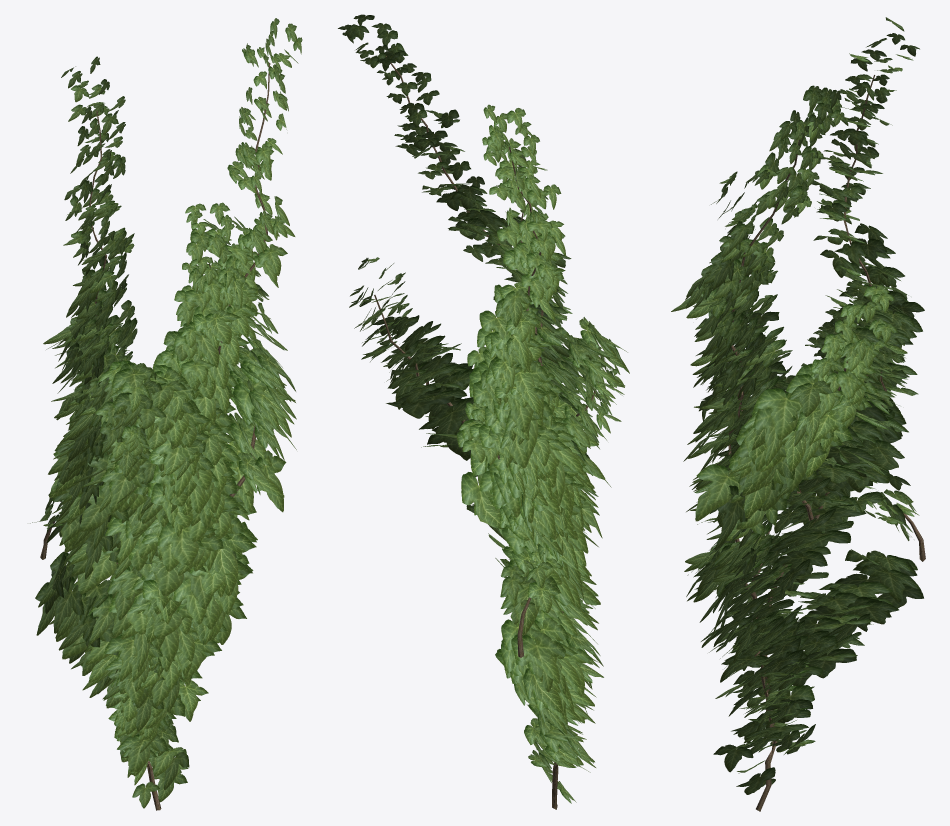
The model's file is SM_Ivy_01a.fbx.
The picture shows the model from 3 angles, left to right: view 1: azimuth 30°, elevation 25°; view 2: azimuth 150°, elevation 25°; view 3: azimuth 270°, elevation 25°; orthographic projection. The views are drawn at different scales.
Parts seen in each view (by area): view 1: SM_Ivy_01a_LOD0; view 2: SM_Ivy_01a_LOD0; view 3: SM_Ivy_01a_LOD0.
Boxes of the visible parts, x1,y1,x2,y2 form: SM_Ivy_01a_LOD0: [30, 18, 302, 810]; SM_Ivy_01a_LOD0: [338, 14, 629, 809]; SM_Ivy_01a_LOD0: [671, 17, 925, 811].
Bounding box in the file's own units: 384 × 323 × 1051.
